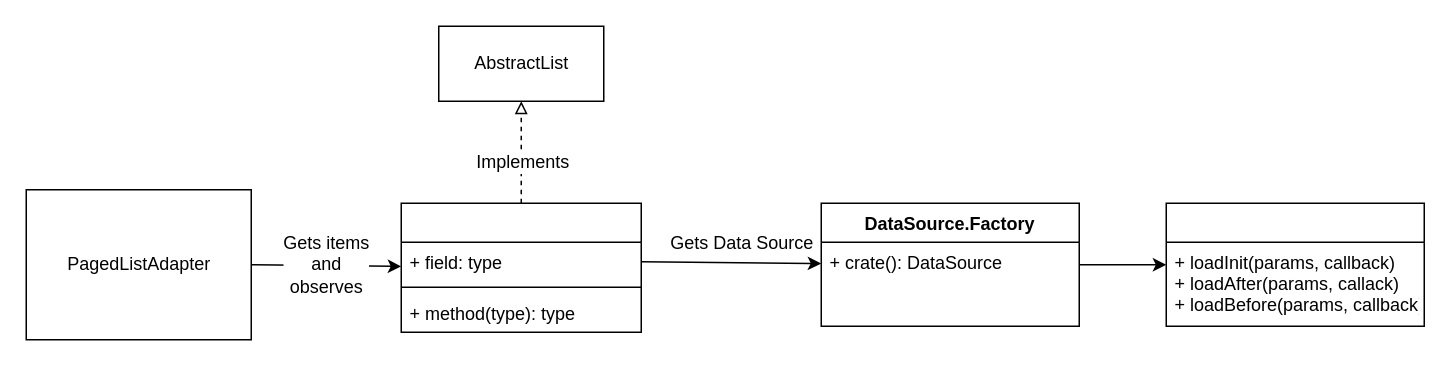
Some shapes in this 1451 by 366 pixel diagram are drawn without their labels. The shapes that lost their labels are listed below. From the top down, each one's box as (x1, y1, x2, y2) in pixels, then its label:
(400, 202, 641, 332): PagedList
(1165, 202, 1424, 326): DataSource
